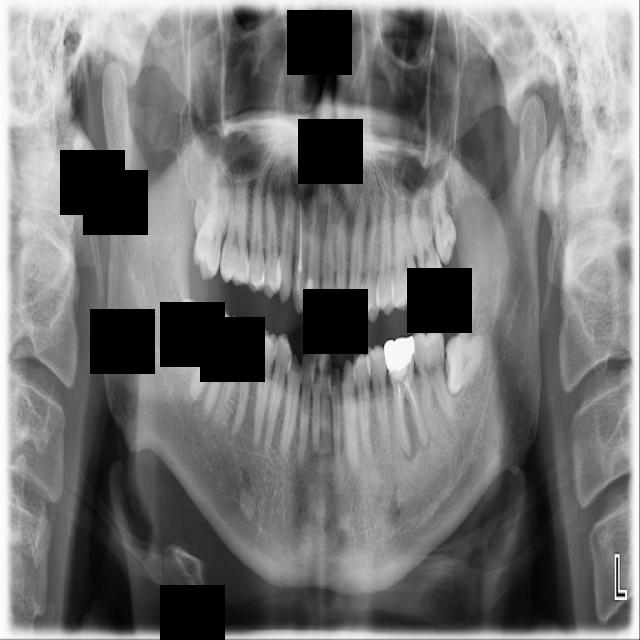52: (221, 314, 267, 364), (381, 335, 420, 375), (302, 276, 322, 328), (292, 272, 308, 313)
73: (384, 365, 432, 459), (293, 201, 309, 274), (599, 572, 606, 592)
BioHorizons Implant: (405, 187, 447, 305)
BioLife Implant: (426, 178, 460, 268)
Biomet 3i Implant: (156, 296, 203, 361), (445, 333, 484, 393)
Blue Sky Bio Implant: (408, 323, 458, 441), (186, 301, 236, 418)
Caries: (186, 162, 239, 283)
